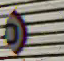Speed limit: (3, 7, 25, 55)
